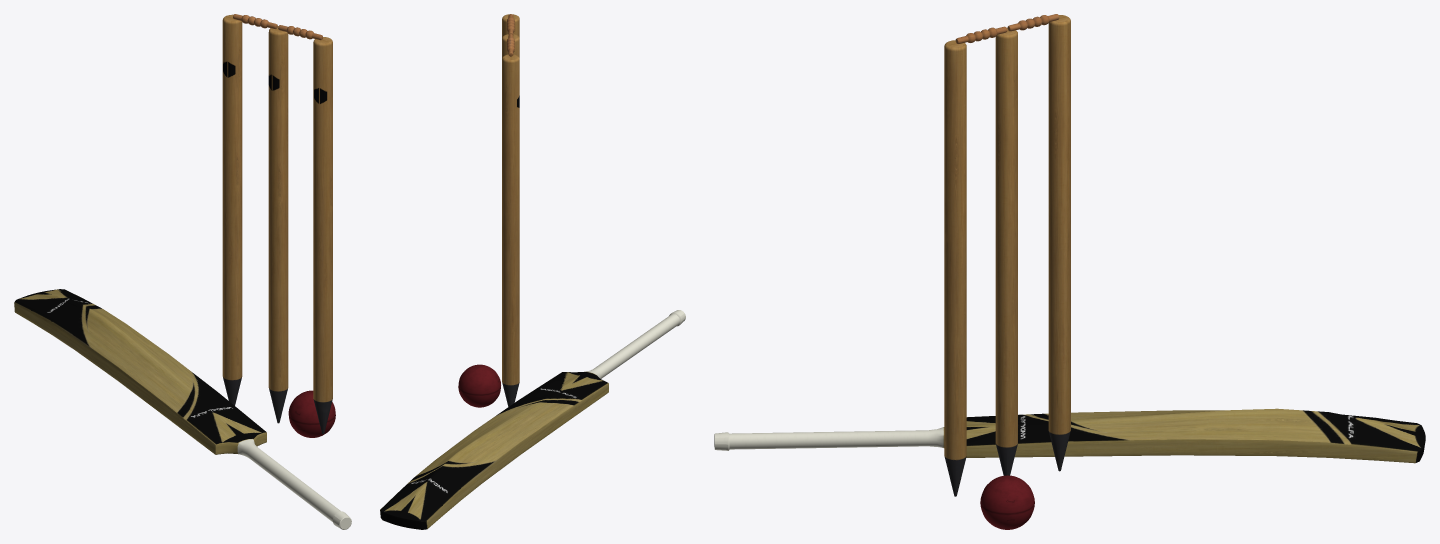
Rendered from cricket_set.glb.
The picture shows the model from 3 angles, left to right: view 1: azimuth 30°, elevation 25°; view 2: azimuth 150°, elevation 25°; view 3: azimuth 270°, elevation 25°; orthographic projection. The views are drawn at different scales.
Visible parts, largest first — view 1: StaticMeshActor_5_StaticMeshComponent0_2, StaticMeshActor_4_StaticMeshComponent0_1, StaticMeshActor_3_StaticMeshComponent0_0; view 2: StaticMeshActor_4_StaticMeshComponent0_1, StaticMeshActor_5_StaticMeshComponent0_2, StaticMeshActor_3_StaticMeshComponent0_0; view 3: StaticMeshActor_5_StaticMeshComponent0_2, StaticMeshActor_4_StaticMeshComponent0_1, StaticMeshActor_3_StaticMeshComponent0_0.
Boxes of the visible parts, x1,y1,x2,y2 form: StaticMeshActor_5_StaticMeshComponent0_2: [222, 14, 332, 434]; StaticMeshActor_4_StaticMeshComponent0_1: [14, 289, 351, 529]; StaticMeshActor_3_StaticMeshComponent0_0: [288, 390, 335, 437]; StaticMeshActor_4_StaticMeshComponent0_1: [380, 310, 685, 529]; StaticMeshActor_5_StaticMeshComponent0_2: [502, 14, 519, 406]; StaticMeshActor_3_StaticMeshComponent0_0: [458, 364, 500, 407]; StaticMeshActor_5_StaticMeshComponent0_2: [944, 14, 1070, 496]; StaticMeshActor_4_StaticMeshComponent0_1: [714, 408, 1425, 463]; StaticMeshActor_3_StaticMeshComponent0_0: [980, 475, 1034, 529].
Bounding box in the file's own units: 29.87 × 85.59 × 114.
2 materials, 2 textured.
